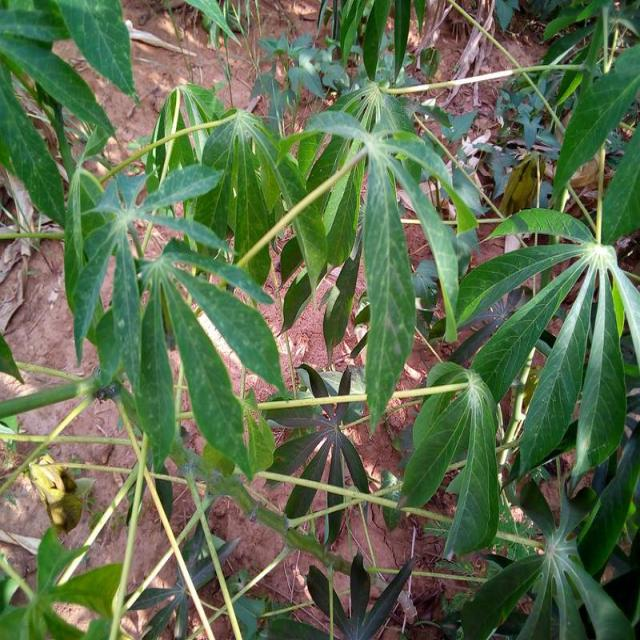cassava leaf: (297, 81, 470, 434)
